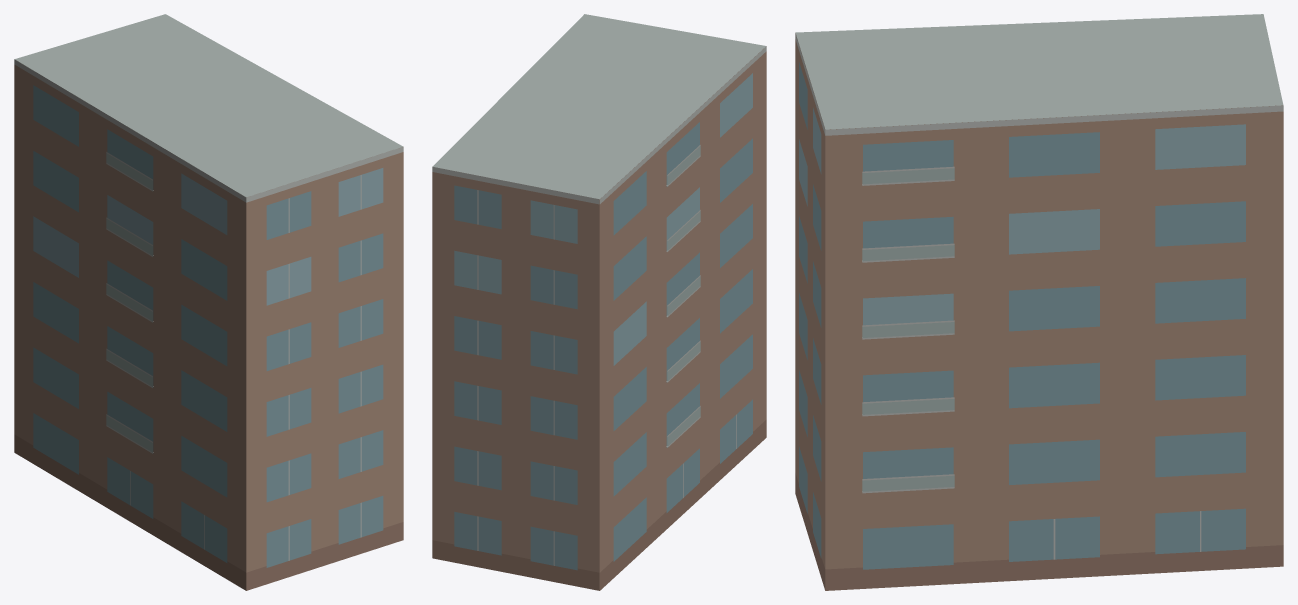
The model's file is survey-upis-32959669.glb.
The picture shows the model from 3 angles, left to right: view 1: azimuth 30°, elevation 25°; view 2: azimuth 150°, elevation 25°; view 3: azimuth 270°, elevation 25°; orthographic projection. The views are drawn at different scales.
Parts seen in each view (by area): view 1: survey-upis-32959669.tmp; view 2: survey-upis-32959669.tmp; view 3: survey-upis-32959669.tmp.
Boxes of the visible parts, box(x1,y1,x2,y2) form: survey-upis-32959669.tmp: box(14, 14, 403, 590); survey-upis-32959669.tmp: box(432, 14, 766, 590); survey-upis-32959669.tmp: box(795, 14, 1283, 590).
Size of the model in its own units: 9.85 by 18.3 by 17.56.
